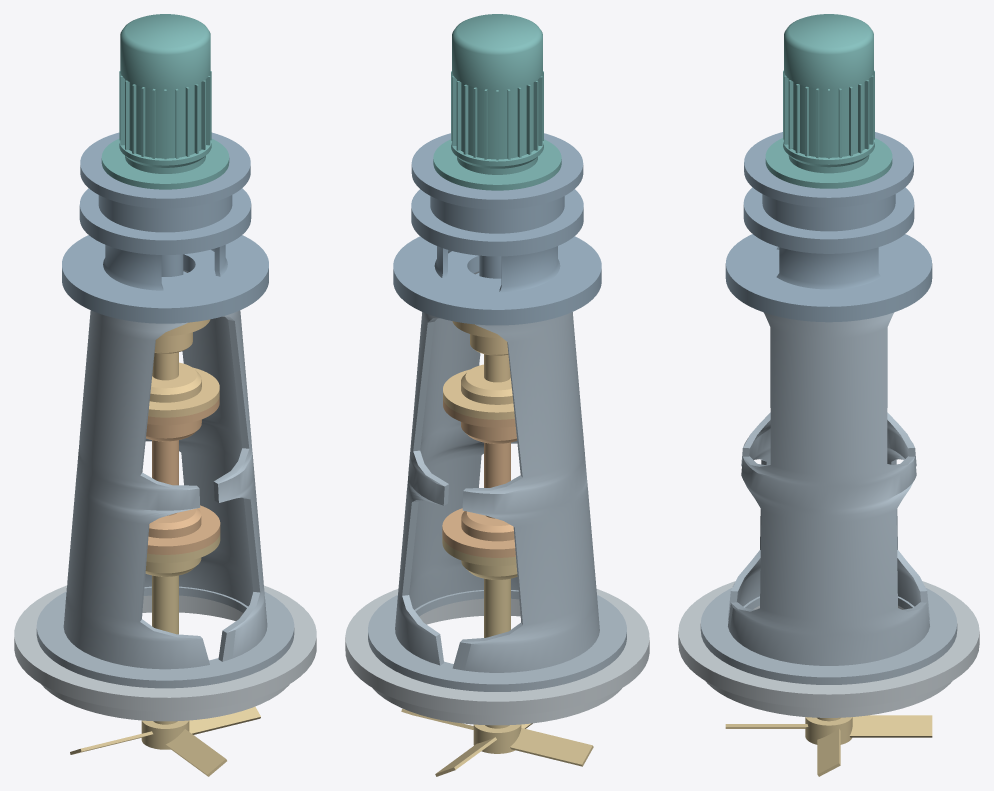
The model's file is 槽罐搅拌器_v0.1.glb.
3 renders of one model, left to right at view 1: azimuth 30°, elevation 25°; view 2: azimuth 150°, elevation 25°; view 3: azimuth 270°, elevation 25°, orthographic.
Visible parts, largest first — view 1: 06_Tapered_window_frame_2, 06_Tapered_window_frame_1, 01_Motor, 07_Tank_interface_rim, 02_Base_flange_top, 06_Frame_foot, 04_Lower_intermediate_shaft, 02_Upper_mount_flange, 03_Upper_intermediate_shaft, 02_Middle_flange_top, 07_Tank_interface_short_wall, 02_Upper_housing (+7 smaller); view 2: 06_Tapered_window_frame_2, 06_Tapered_window_frame_1, 01_Motor, 07_Tank_interface_rim, 02_Base_flange_top, 06_Frame_foot, 04_Lower_intermediate_shaft, 02_Upper_mount_flange, 03_Upper_intermediate_shaft, 02_Middle_flange_top, 07_Tank_interface_short_wall, 02_Upper_housing (+7 smaller); view 3: 06_Tapered_window_frame_1, 01_Motor, 07_Tank_interface_rim, 02_Base_flange_top, 06_Frame_foot, 02_Upper_mount_flange, 06_Tapered_window_frame_2, 02_Middle_flange_top, 02_Lower_housing_1, 02_Upper_housing, 07_Tank_interface_short_wall, 05_Pitched_blade_2 (+4 smaller).
Part boxes in pixels (x1,y1,x2,y2): 06_Tapered_window_frame_2: [63, 310, 209, 669]; 06_Tapered_window_frame_1: [144, 270, 267, 661]; 01_Motor: [101, 14, 229, 189]; 07_Tank_interface_rim: [14, 585, 316, 711]; 02_Base_flange_top: [62, 235, 268, 315]; 06_Frame_foot: [36, 586, 294, 688]; 04_Lower_intermediate_shaft: [146, 397, 220, 554]; 02_Upper_mount_flange: [80, 132, 250, 208]; 03_Upper_intermediate_shaft: [148, 319, 219, 417]; 02_Middle_flange_top: [79, 188, 251, 247]; 07_Tank_interface_short_wall: [41, 595, 289, 721]; 02_Upper_housing: [98, 195, 232, 232]; 06_Tapered_window_frame_2: [452, 312, 599, 672]; 06_Tapered_window_frame_1: [395, 271, 518, 665]; 01_Motor: [433, 14, 561, 190]; 07_Tank_interface_rim: [345, 589, 649, 715]; 02_Base_flange_top: [393, 236, 601, 317]; 06_Frame_foot: [368, 590, 626, 691]; 04_Lower_intermediate_shaft: [442, 399, 516, 557]; 02_Upper_mount_flange: [411, 133, 583, 209]; 03_Upper_intermediate_shaft: [443, 321, 514, 419]; 02_Middle_flange_top: [411, 189, 583, 248]; 07_Tank_interface_short_wall: [372, 598, 621, 725]; 02_Upper_housing: [430, 196, 564, 233]; 06_Tapered_window_frame_1: [728, 312, 929, 665]; 01_Motor: [765, 14, 892, 188]; 07_Tank_interface_rim: [678, 581, 979, 708]; 02_Base_flange_top: [725, 234, 932, 314]; 06_Frame_foot: [700, 588, 957, 684]; 02_Upper_mount_flange: [744, 132, 913, 207]; 06_Tapered_window_frame_2: [728, 412, 929, 620]; 02_Middle_flange_top: [743, 187, 914, 246]; 02_Lower_housing_1: [776, 247, 881, 289]; 02_Upper_housing: [762, 194, 895, 231]; 07_Tank_interface_short_wall: [705, 605, 952, 717]; 05_Pitched_blade_2: [849, 715, 932, 737].
Bounding box in the file's own units: 0.9096 × 2.35 × 0.9096.
